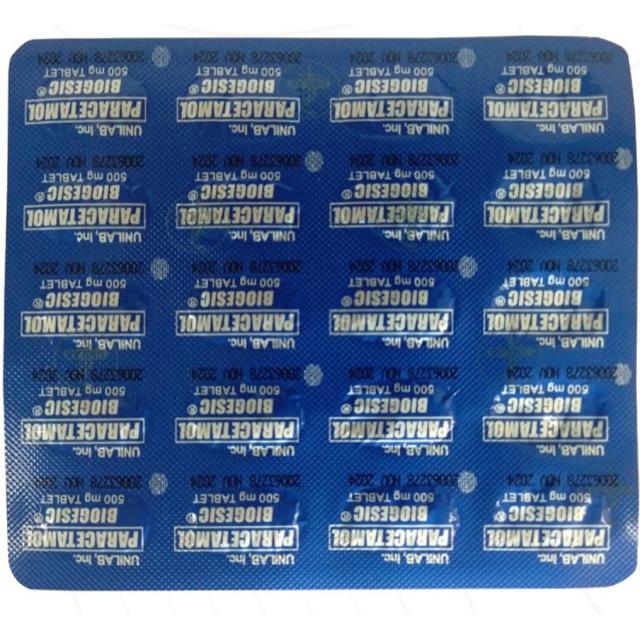blister: (4, 28, 639, 597)
